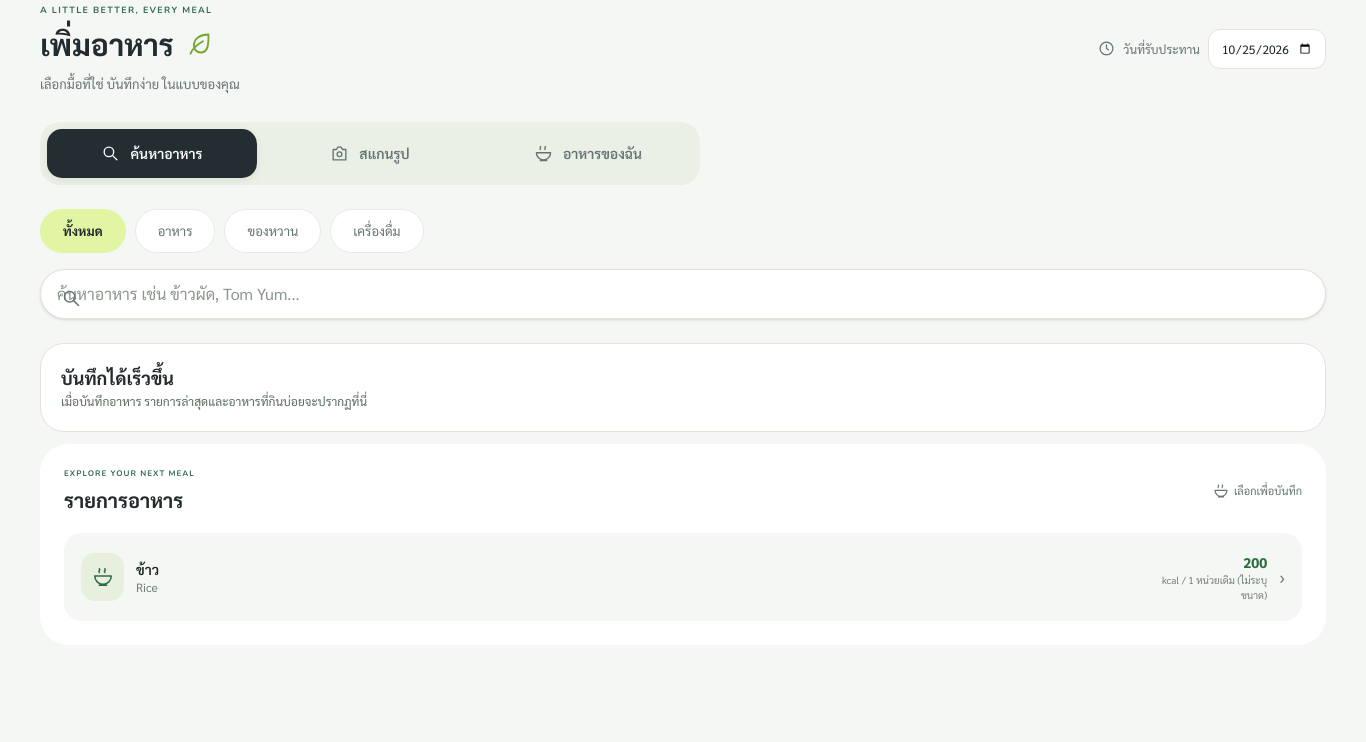
Test case: FoodLogger Gemini consent › filters food, adjusts the serving and meal, and saves the selected entry
The width and height of the screenshot is (1366, 742).
Type "ข้าว" into the field named "ค้นหาอาหารภาษาไทยหรืออังกฤษ" at (683, 294), box [40, 268, 1326, 318]
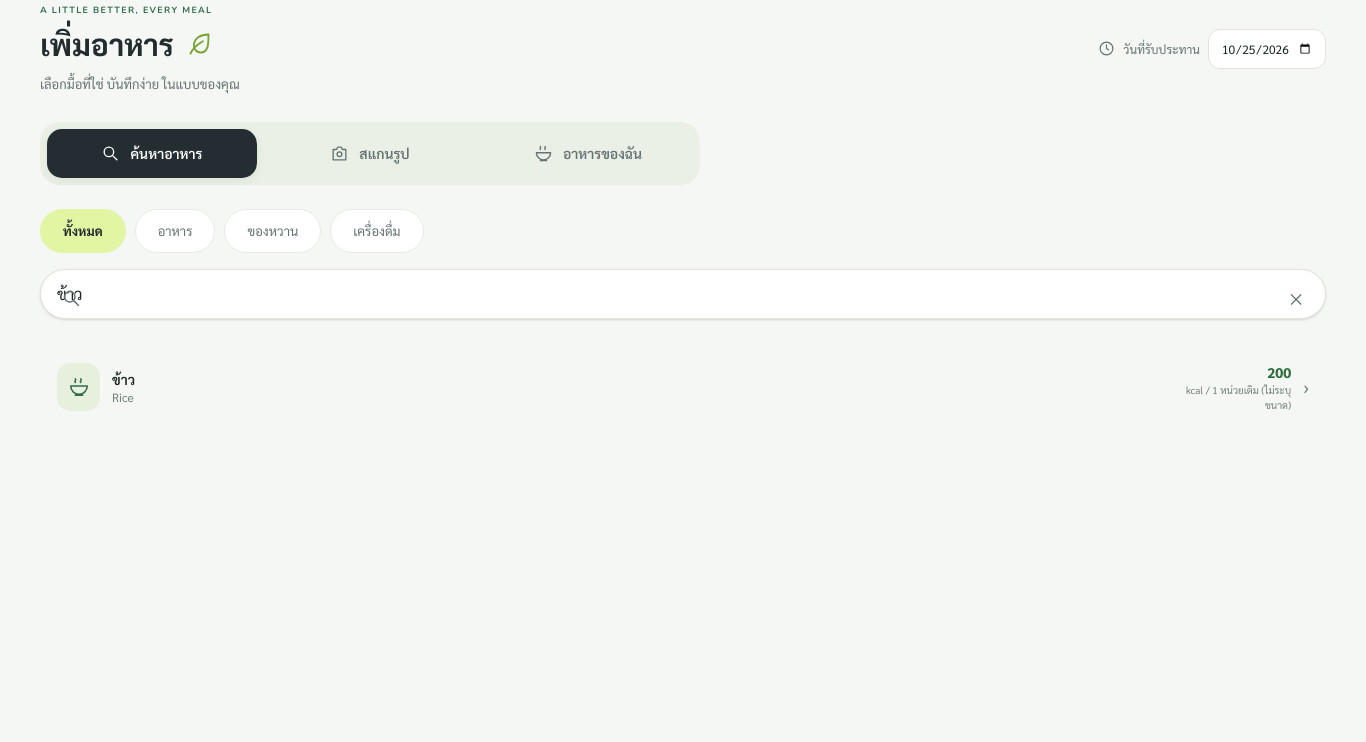
Click the button "ข้าว Rice 200 kcal / 1 หน่วยเดิม (ไม่ระบุขนาด) ›" at (78, 386), box [40, 342, 1326, 430]
(page scrolled)
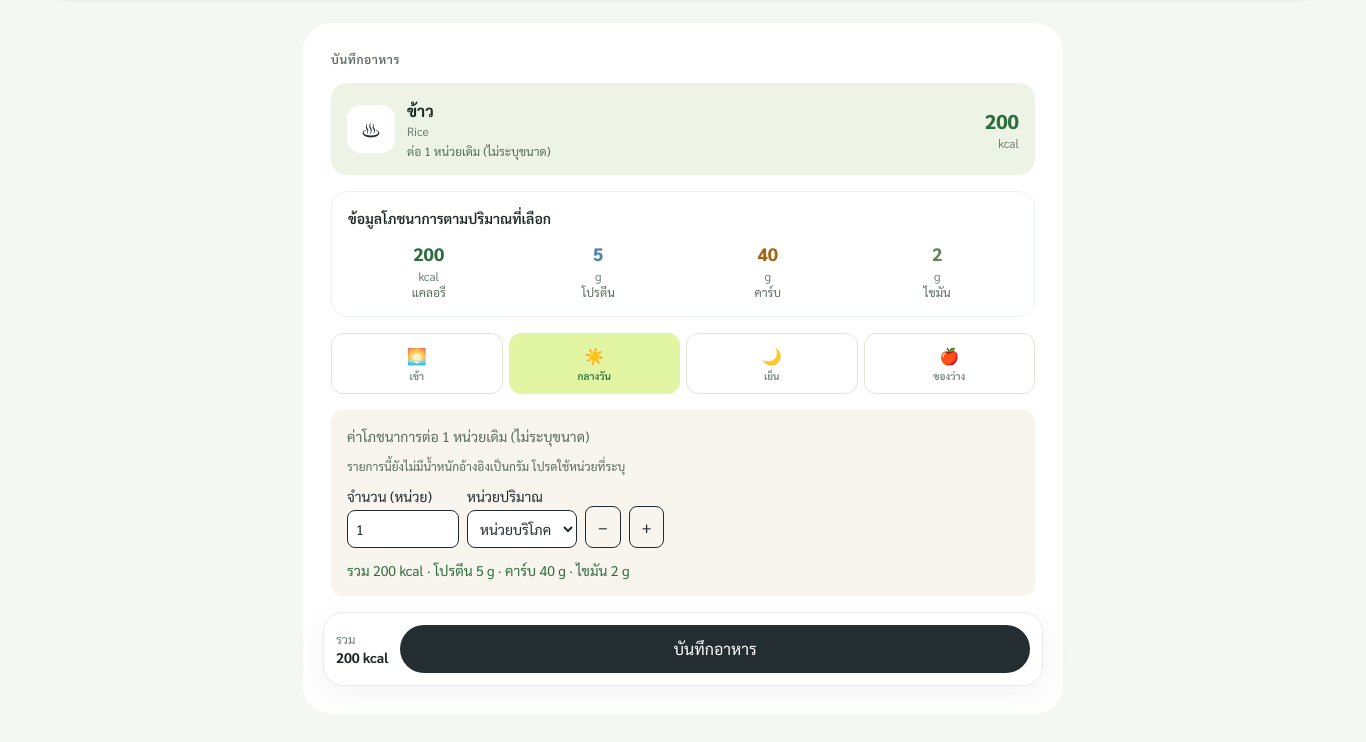
Click the button named "เพิ่มจำนวนครึ่งหน่วย" at (647, 526), box [629, 506, 664, 548]
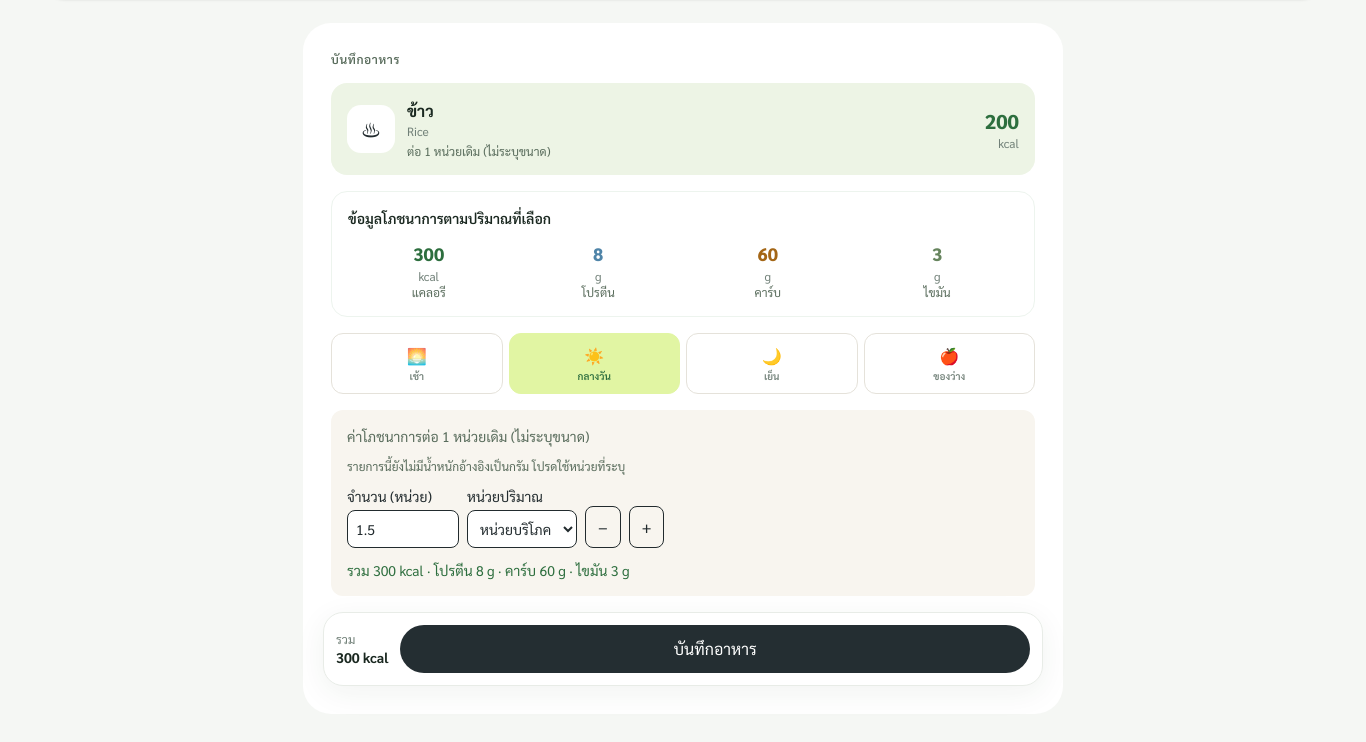
Click the button "🌅 เช้า" at (417, 363), box [331, 332, 502, 394]
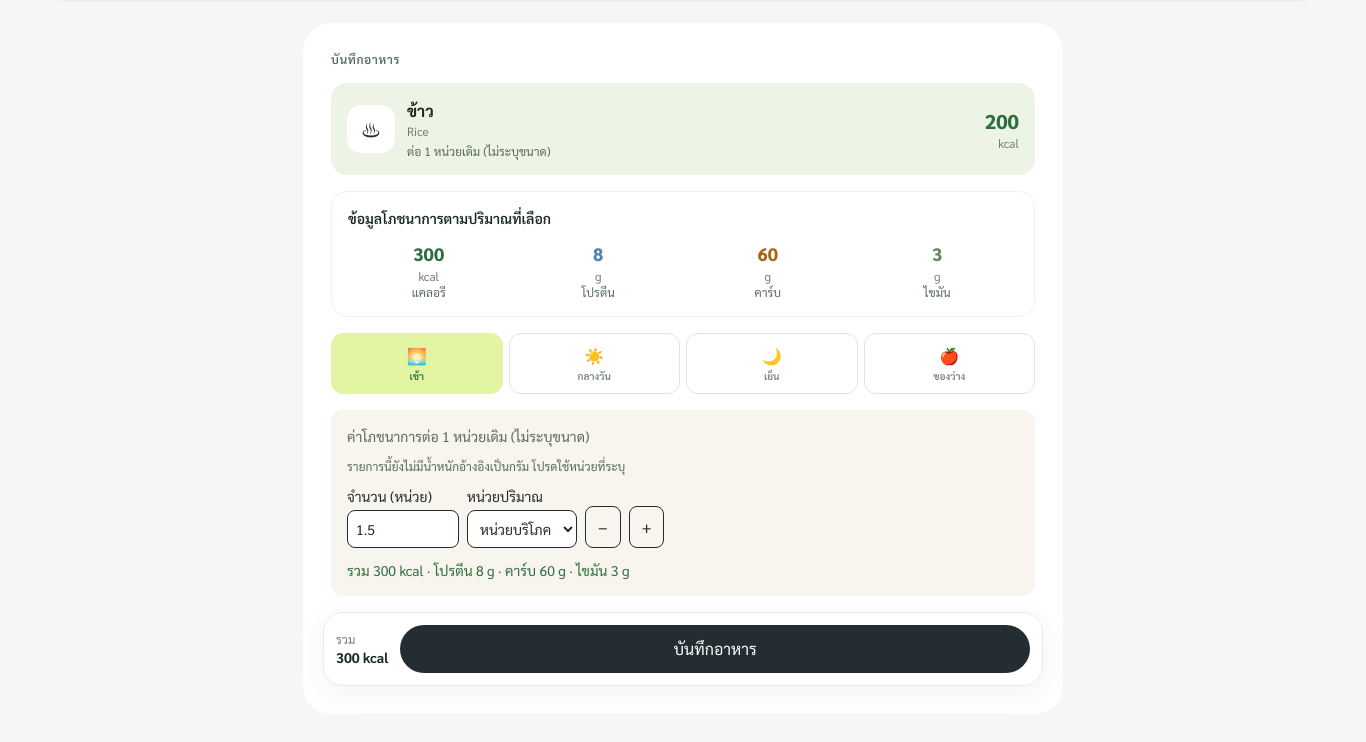
Click the button "บันทึกอาหาร" at (715, 648), box [400, 624, 1030, 672]
(page scrolled)
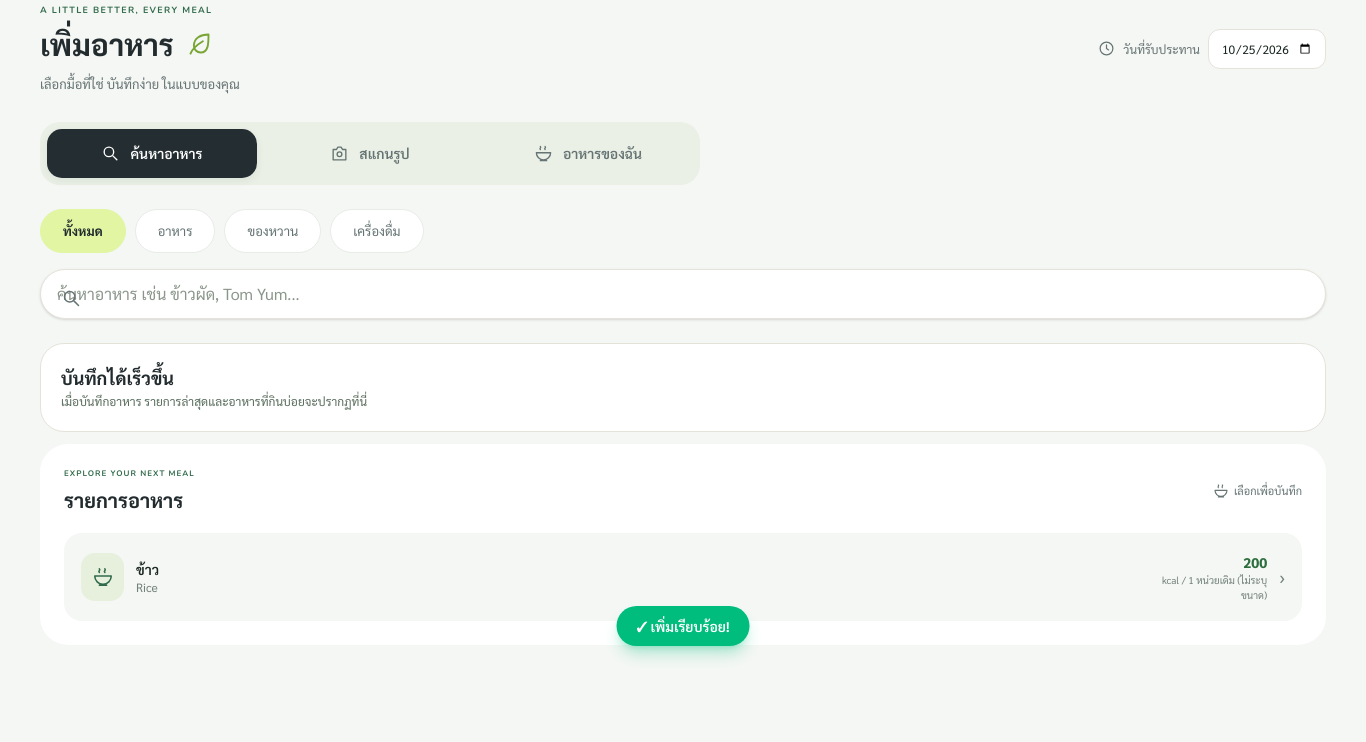
Expected: the text "✓ เพิ่มเรียบร้อย!" is shown, [616, 606, 749, 646]
